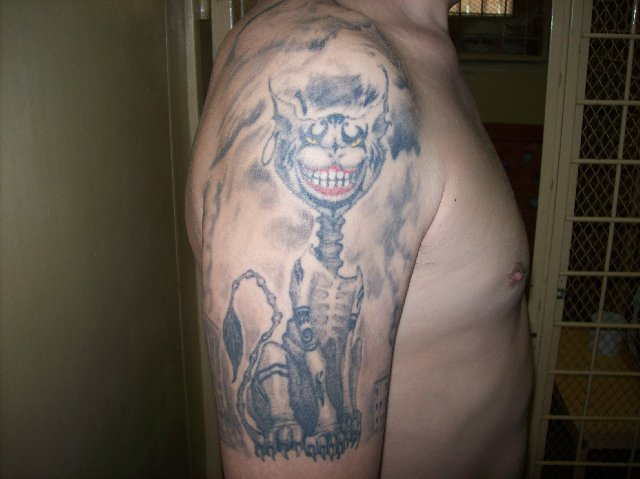tatu8_kot: (219, 46, 392, 463)
